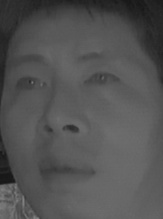eye: (13, 73, 50, 98), (82, 69, 120, 90)
mouth: (34, 151, 100, 190)
